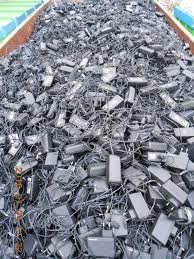metal: (78, 220, 128, 257), (156, 177, 192, 214), (148, 210, 179, 249), (122, 189, 154, 225), (98, 150, 126, 190), (157, 144, 191, 172), (47, 201, 77, 232), (144, 160, 174, 189), (16, 230, 46, 256), (98, 91, 130, 115), (61, 138, 96, 159), (21, 173, 43, 206), (15, 154, 44, 179), (4, 131, 27, 160), (39, 148, 64, 173), (32, 130, 57, 155), (43, 182, 71, 202), (55, 56, 82, 76), (122, 72, 150, 91), (164, 107, 191, 126), (35, 72, 62, 91), (139, 137, 169, 153), (169, 122, 194, 140), (135, 41, 157, 59)
